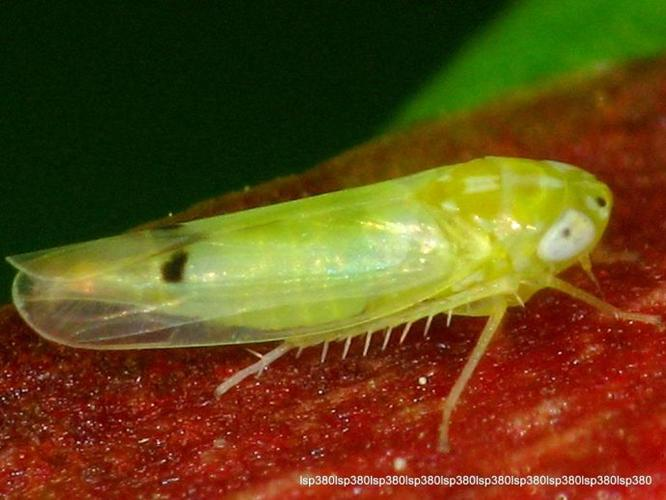Cicadellidae: (11, 155, 610, 365)
